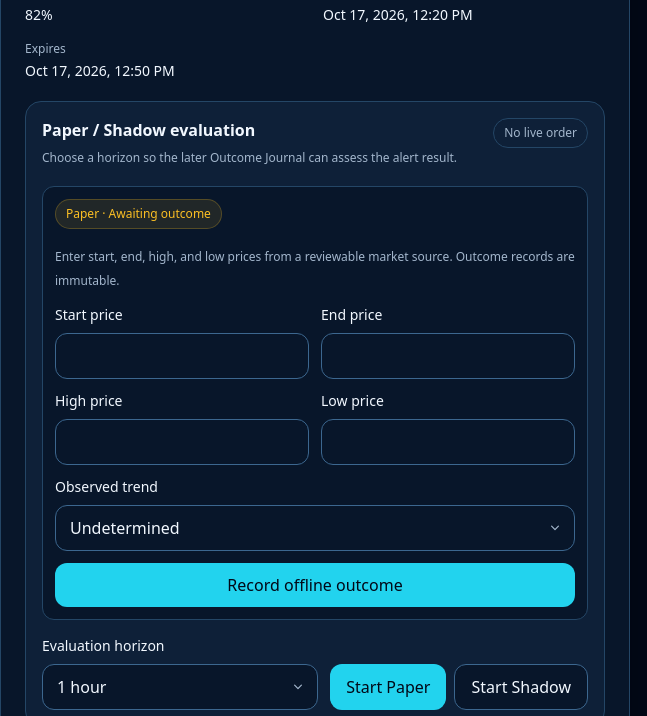
AlertCenter › records an immutable outcome for a completed simulation and refreshes analytics
(page scrolled)
In the number field labelled "Start price": x=182, y=356 [55,333,309,379], type "100"
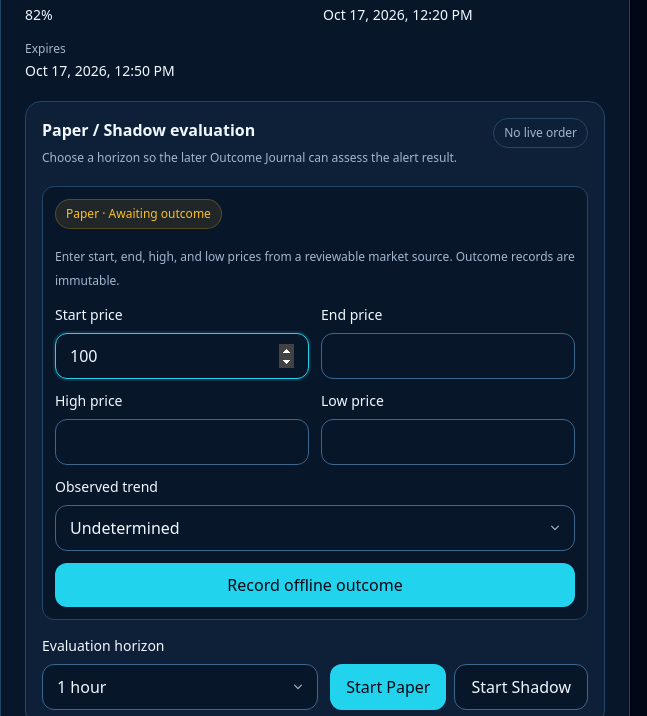
In the number field labelled "End price": x=448, y=356 [321,333,575,379], type "101"
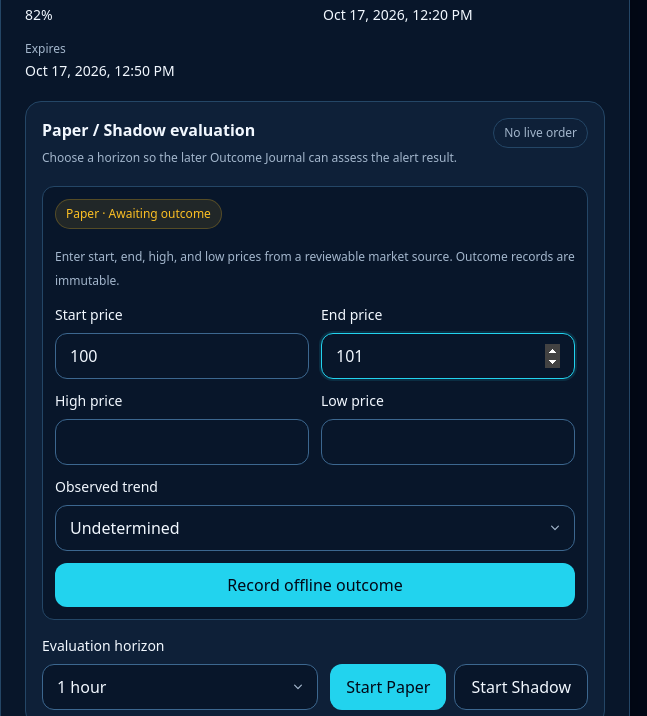
In the number field labelled "High price": x=182, y=442 [55,419,309,465], type "102"
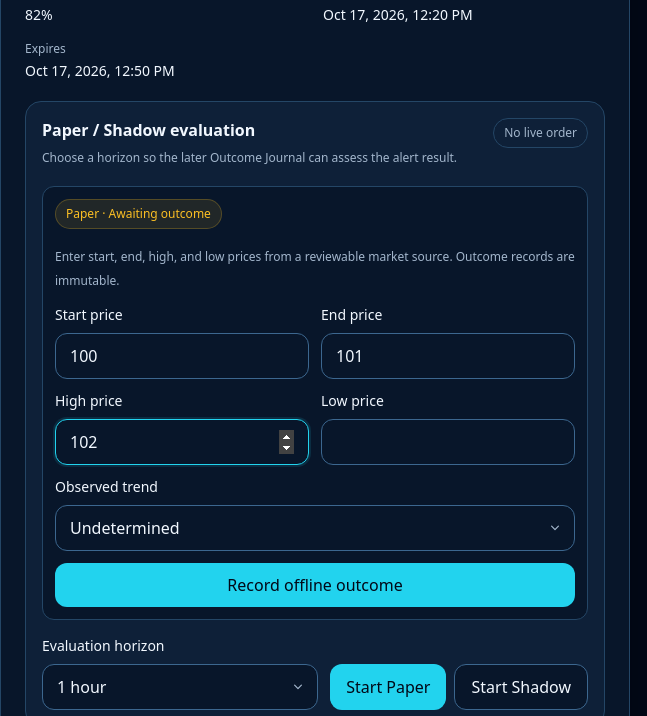
In the number field labelled "Low price": x=448, y=442 [321,419,575,465], type "99"
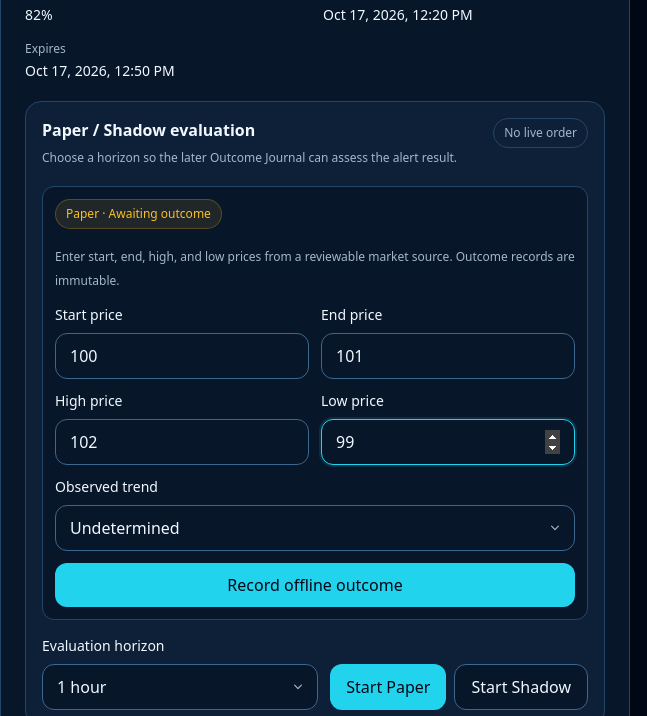
Select "Trending up" in the dropdown labelled "Observed trend": x=315, y=528 [55,505,575,551]
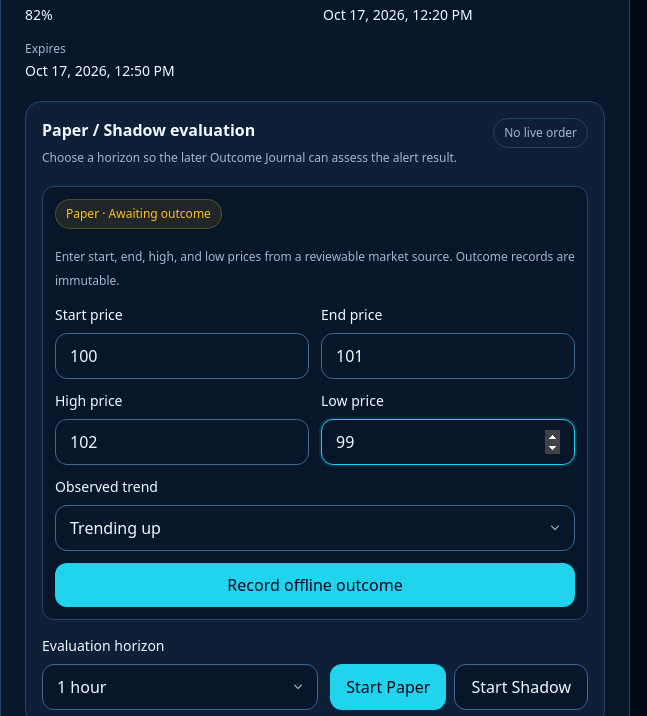
Click the button "Record offline outcome": x=315, y=585 [55,563,575,607]
(page scrolled)
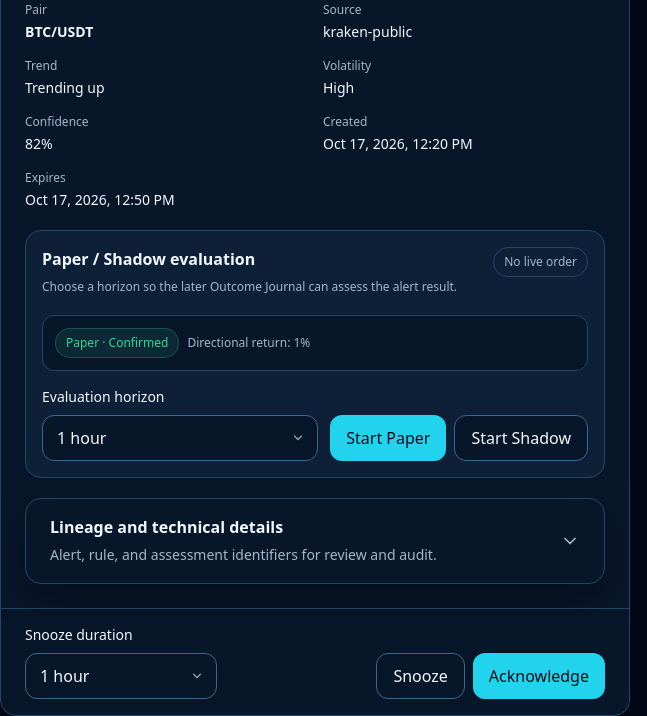
expect the text "Paper · Confirmed" is shown: met, box [55,328,179,358]
expect the text "Directional return: 1%" is shown: met, box [187,335,310,351]
